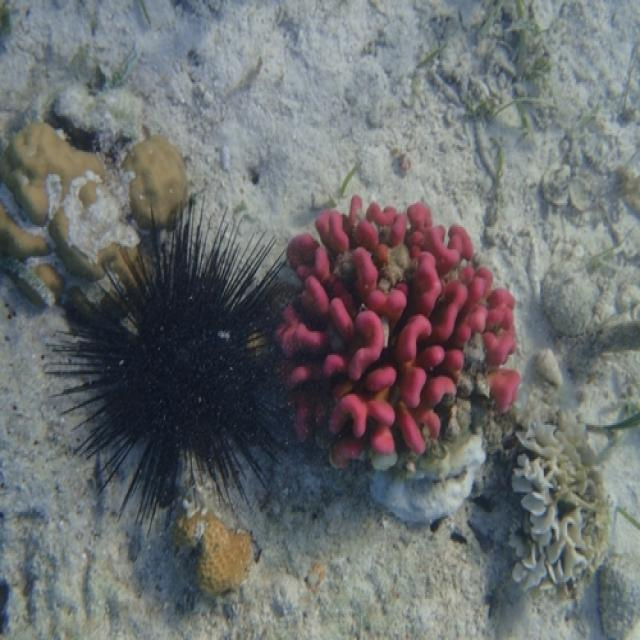Urchin: (51, 194, 300, 530)
